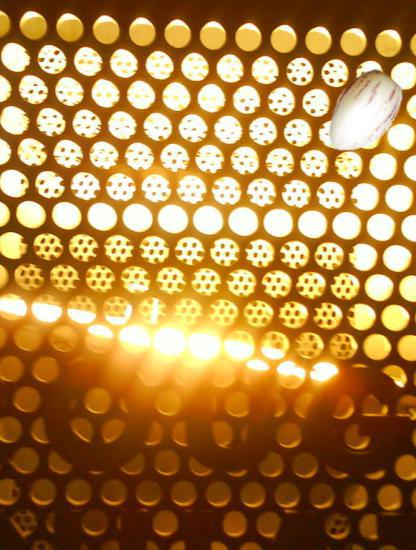Pepino: (317, 68, 409, 160)
